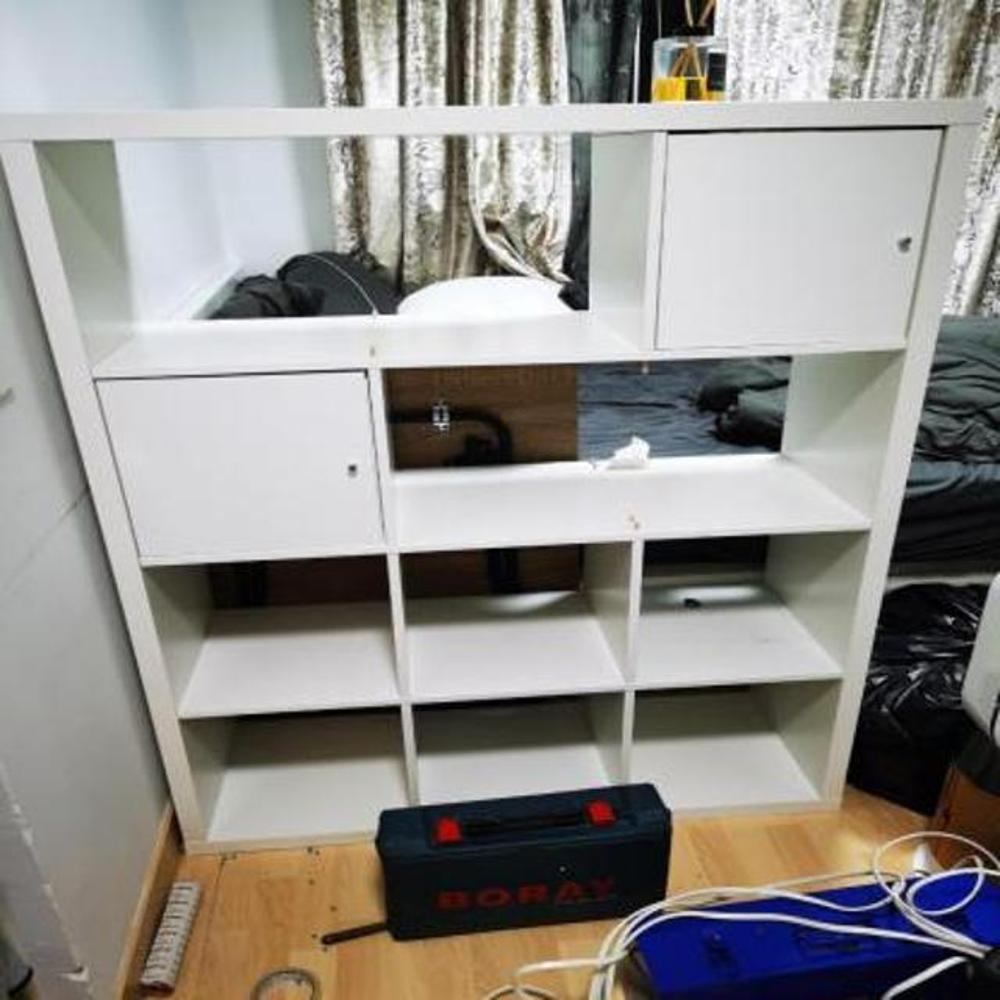lamp: (1, 94, 995, 860)
